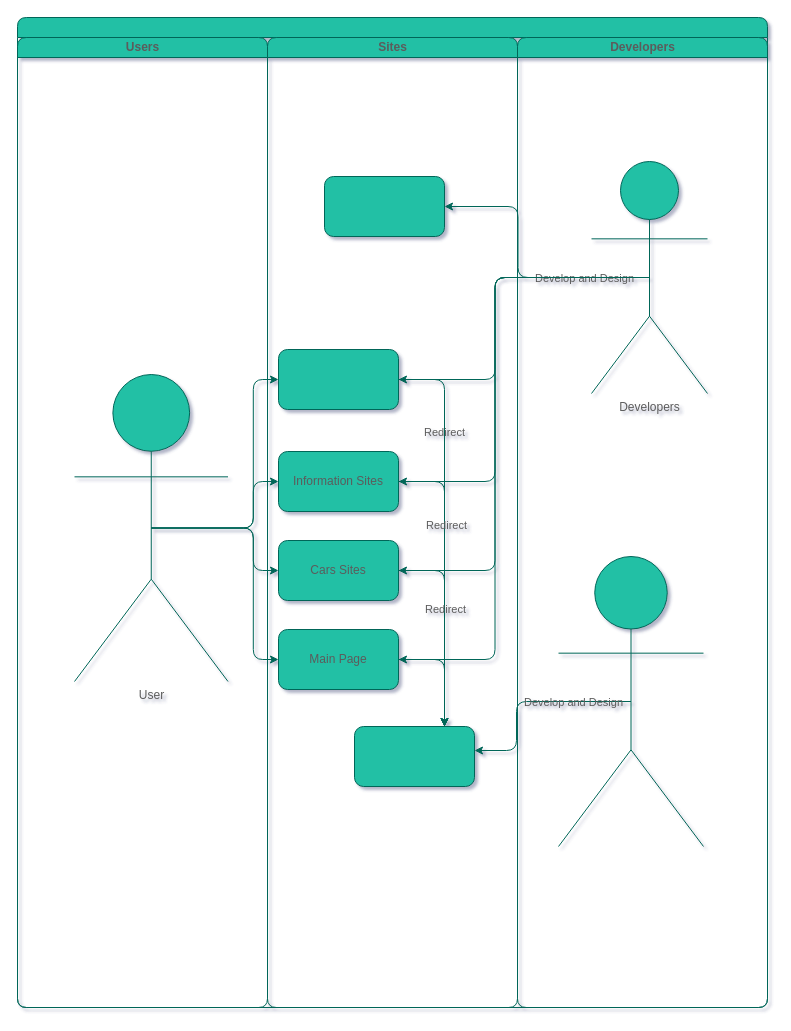
The diagram is 791 pixels wide and 1031 high, and some of its shapes have lost their labels. The box of each missing label's shape, as (x1, y1, x2, y2) in pixels:
About Us Site: (278, 348, 398, 410)
BMW: (558, 556, 704, 846)
BMW Website: (354, 726, 474, 786)
Work In Progress Sites: (324, 176, 444, 236)
